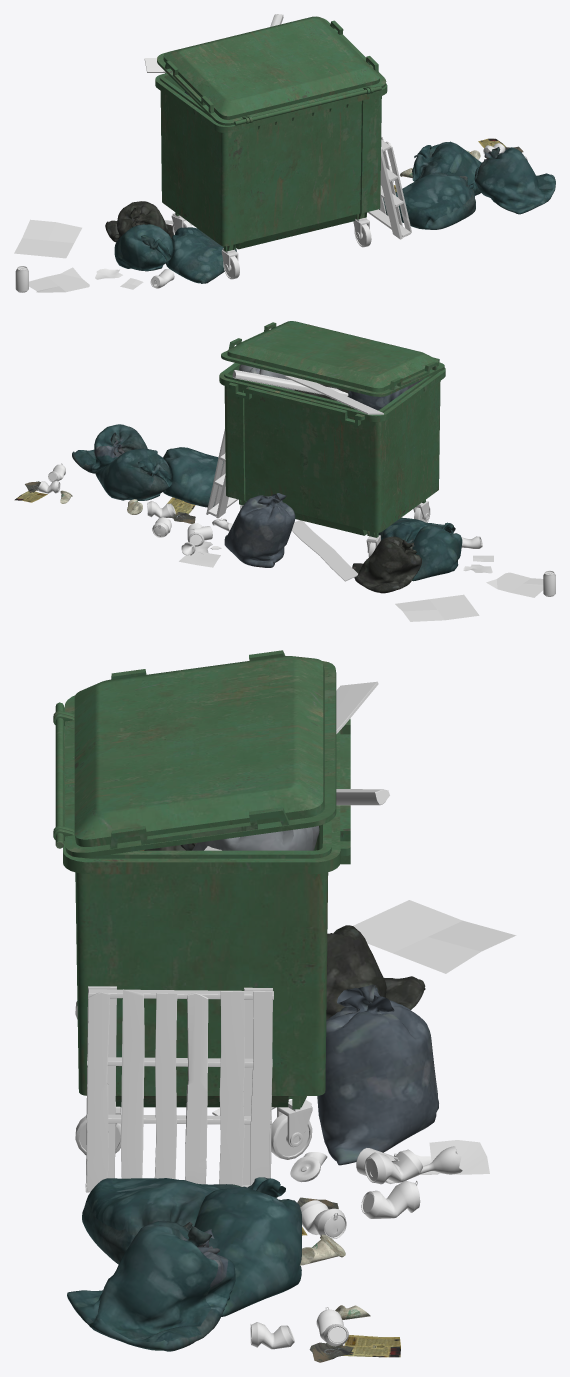
Rendered from Dumpster.fbx.
3 renders of one model, top to bottom at view 1: azimuth 30°, elevation 25°; view 2: azimuth 150°, elevation 25°; view 3: azimuth 270°, elevation 25°, orthographic. The views are drawn at different scales.
Parts seen in each view (by area): view 1: Dumpster; view 2: Dumpster; view 3: Dumpster.
Boxes of the visible parts, bbox=[...] form: Dumpster: bbox=[14, 14, 555, 292]; Dumpster: bbox=[14, 321, 555, 621]; Dumpster: bbox=[53, 650, 516, 1362].
Size of the model in its own units: 4.29 by 1.51 by 1.68.
